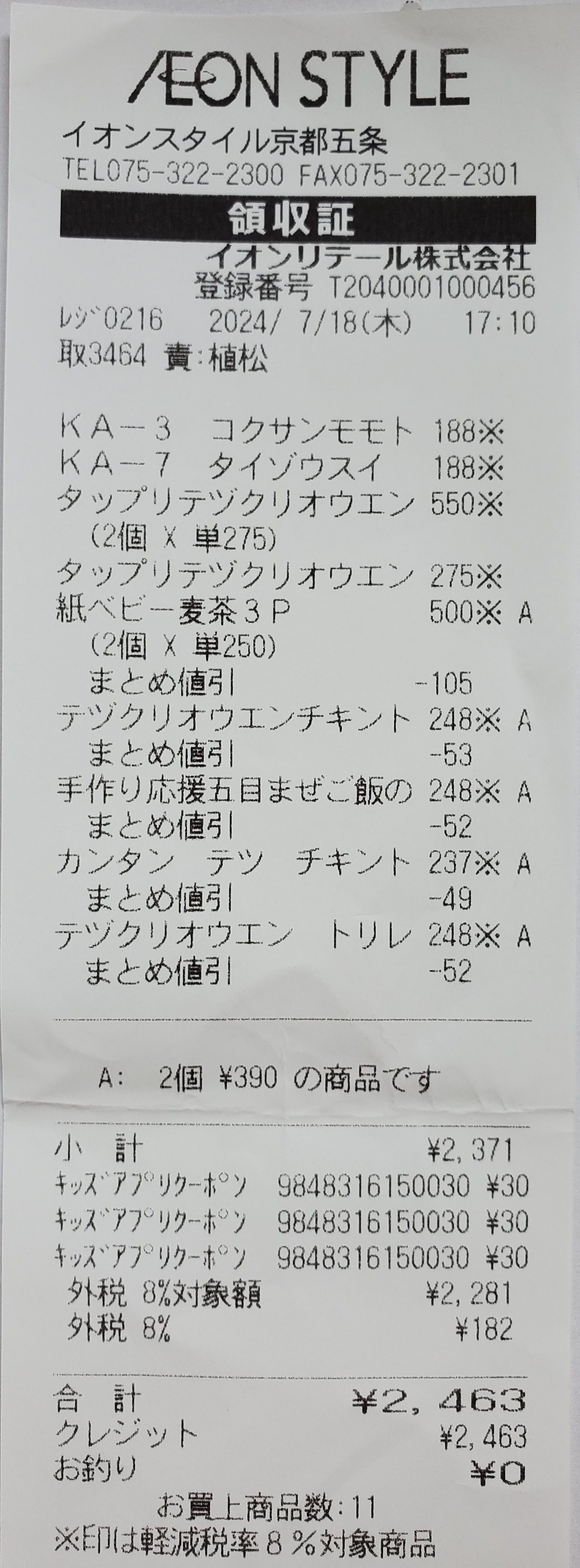Date: (202, 304, 361, 344)
Shopname: (119, 26, 499, 119)
Telnum: (102, 149, 291, 191)
Totalpay: (53, 1379, 543, 1423)
